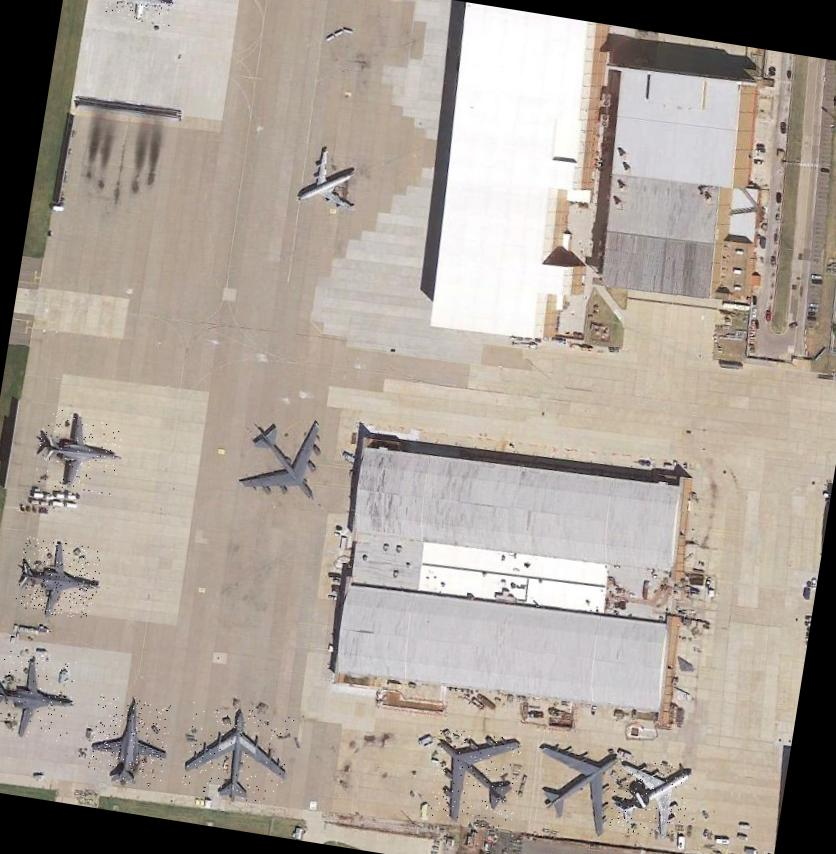A10: (86, 692, 172, 788), (33, 408, 124, 497), (14, 536, 104, 621), (0, 649, 78, 744)
A2: (103, 0, 175, 26)
A7: (607, 756, 692, 842)
A8: (179, 701, 294, 806), (425, 727, 524, 830), (234, 409, 328, 506), (526, 739, 618, 834)
